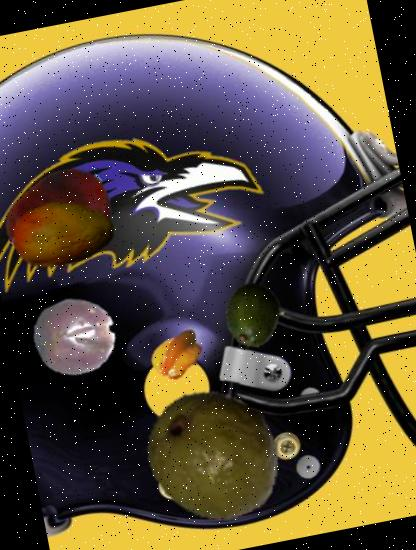Avocado: (217, 278, 293, 354)
Carambula: (146, 322, 211, 388)
Chestnut: (0, 154, 128, 283)
Guava: (131, 372, 299, 540)
Papaya: (3, 174, 124, 296)
Passion: (26, 287, 126, 387)
